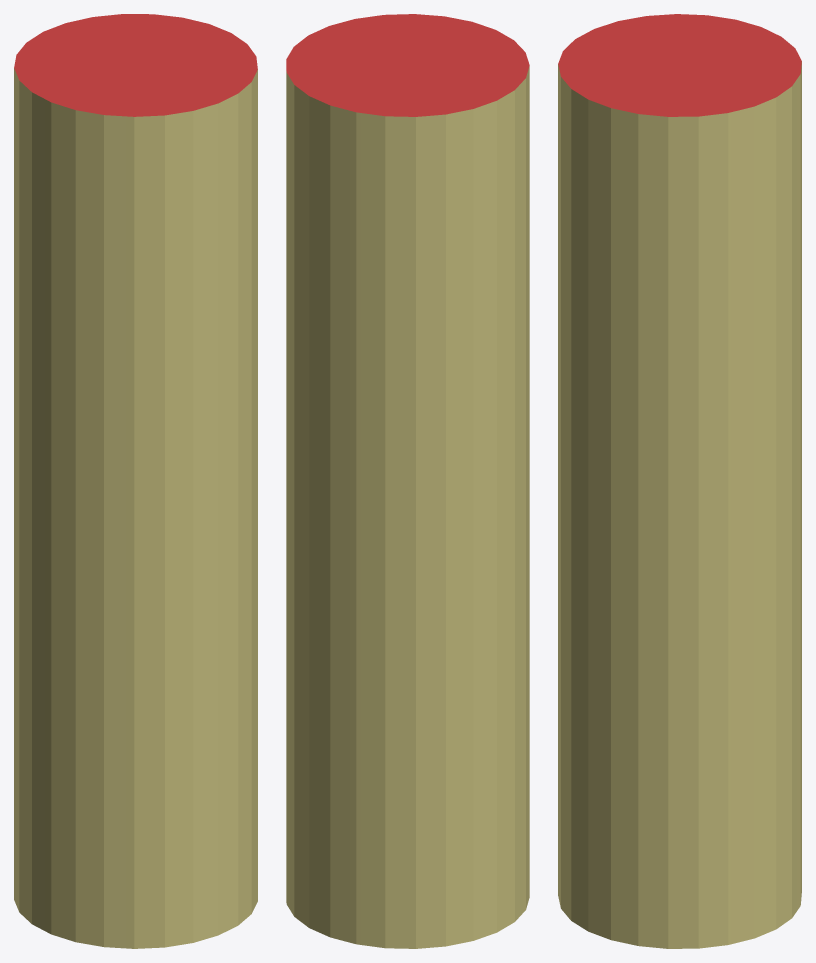
3 views of the same model, side by side, from view 1: azimuth 30°, elevation 25°; view 2: azimuth 150°, elevation 25°; view 3: azimuth 270°, elevation 25° (orthographic).
Bounding box in the file's own units: 3.88 × 3.88 × 14.61.
